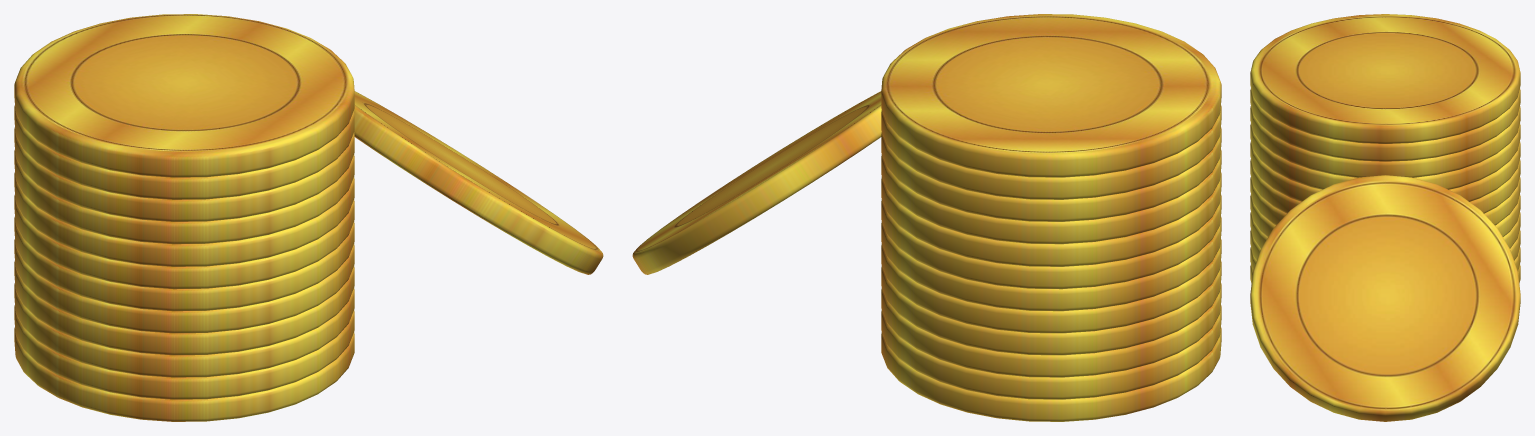
File: coins.glb
3 views of the same model, side by side, from view 1: azimuth 30°, elevation 25°; view 2: azimuth 150°, elevation 25°; view 3: azimuth 270°, elevation 25° (orthographic). The views are drawn at different scales.
Parts seen in each view (by area): view 1: Cylinder.011_11, Cylinder.012_12, Cylinder.007_7, Cylinder_0, Cylinder.010_10, Cylinder.002_2, Cylinder.008_8, Cylinder.006_6, Cylinder.004_4, Cylinder.001_1, Cylinder.009_9, Cylinder.005_5 (+1 smaller); view 2: Cylinder.011_11, Cylinder.012_12, Cylinder.007_7, Cylinder_0, Cylinder.010_10, Cylinder.002_2, Cylinder.008_8, Cylinder.006_6, Cylinder.004_4, Cylinder.001_1, Cylinder.009_9, Cylinder.005_5 (+1 smaller); view 3: Cylinder.012_12, Cylinder.011_11, Cylinder.010_10, Cylinder.009_9, Cylinder.008_8, Cylinder.007_7, Cylinder.006_6, Cylinder.005_5, Cylinder.004_4, Cylinder.003_3, Cylinder.002_2.
Part boxes in pixels (box(x1,y1,x2,y2)): Cylinder.011_11: box(14, 14, 354, 177); Cylinder.012_12: box(354, 91, 603, 274); Cylinder.007_7: box(14, 172, 354, 266); Cylinder_0: box(14, 327, 354, 421); Cylinder.010_10: box(14, 105, 354, 199); Cylinder.002_2: box(14, 283, 354, 377); Cylinder.008_8: box(14, 150, 354, 244); Cylinder.006_6: box(14, 195, 354, 289); Cylinder.004_4: box(14, 239, 354, 333); Cylinder.001_1: box(14, 305, 354, 399); Cylinder.009_9: box(14, 127, 354, 221); Cylinder.005_5: box(14, 217, 354, 311); Cylinder.011_11: box(881, 14, 1221, 177); Cylinder.012_12: box(632, 91, 881, 274); Cylinder.007_7: box(881, 172, 1221, 266); Cylinder_0: box(881, 327, 1221, 421); Cylinder.010_10: box(881, 105, 1221, 199); Cylinder.002_2: box(881, 283, 1221, 377); Cylinder.008_8: box(881, 150, 1221, 244); Cylinder.006_6: box(881, 195, 1221, 289); Cylinder.004_4: box(881, 239, 1221, 333); Cylinder.001_1: box(881, 305, 1221, 399); Cylinder.009_9: box(881, 127, 1221, 221); Cylinder.005_5: box(881, 217, 1221, 311); Cylinder.012_12: box(1250, 175, 1520, 421); Cylinder.011_11: box(1250, 14, 1520, 143); Cylinder.010_10: box(1250, 89, 1520, 161); Cylinder.009_9: box(1250, 106, 1520, 177); Cylinder.008_8: box(1250, 124, 1520, 189); Cylinder.007_7: box(1250, 141, 1520, 201); Cylinder.006_6: box(1250, 159, 1520, 213); Cylinder.005_5: box(1250, 177, 1520, 225); Cylinder.004_4: box(1250, 195, 1520, 236); Cylinder.003_3: box(1250, 212, 1520, 248); Cylinder.002_2: box(1250, 230, 1520, 260).
Size of the model in its own units: 1.84 by 0.8753 by 1.01.
Materials: 1 (1 with a texture image).
